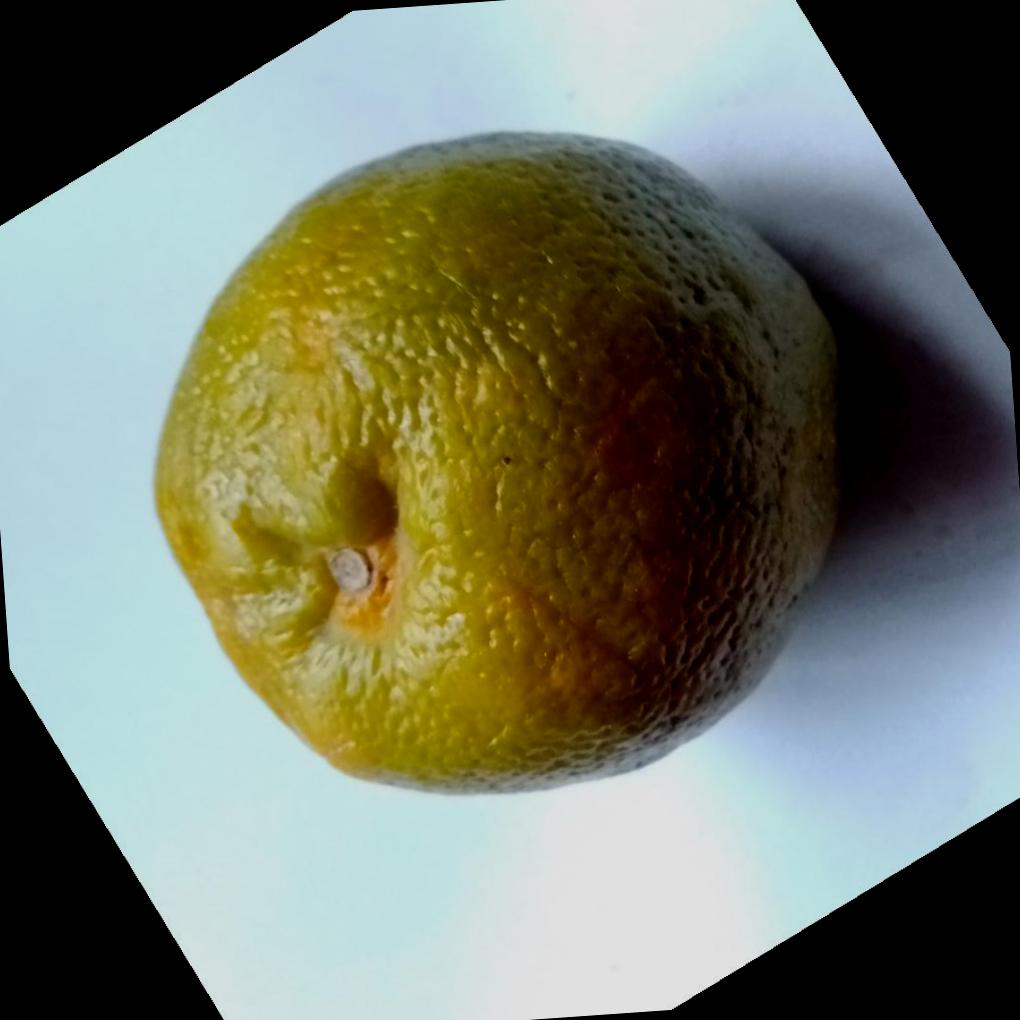FreshGuava: (155, 130, 852, 798)
